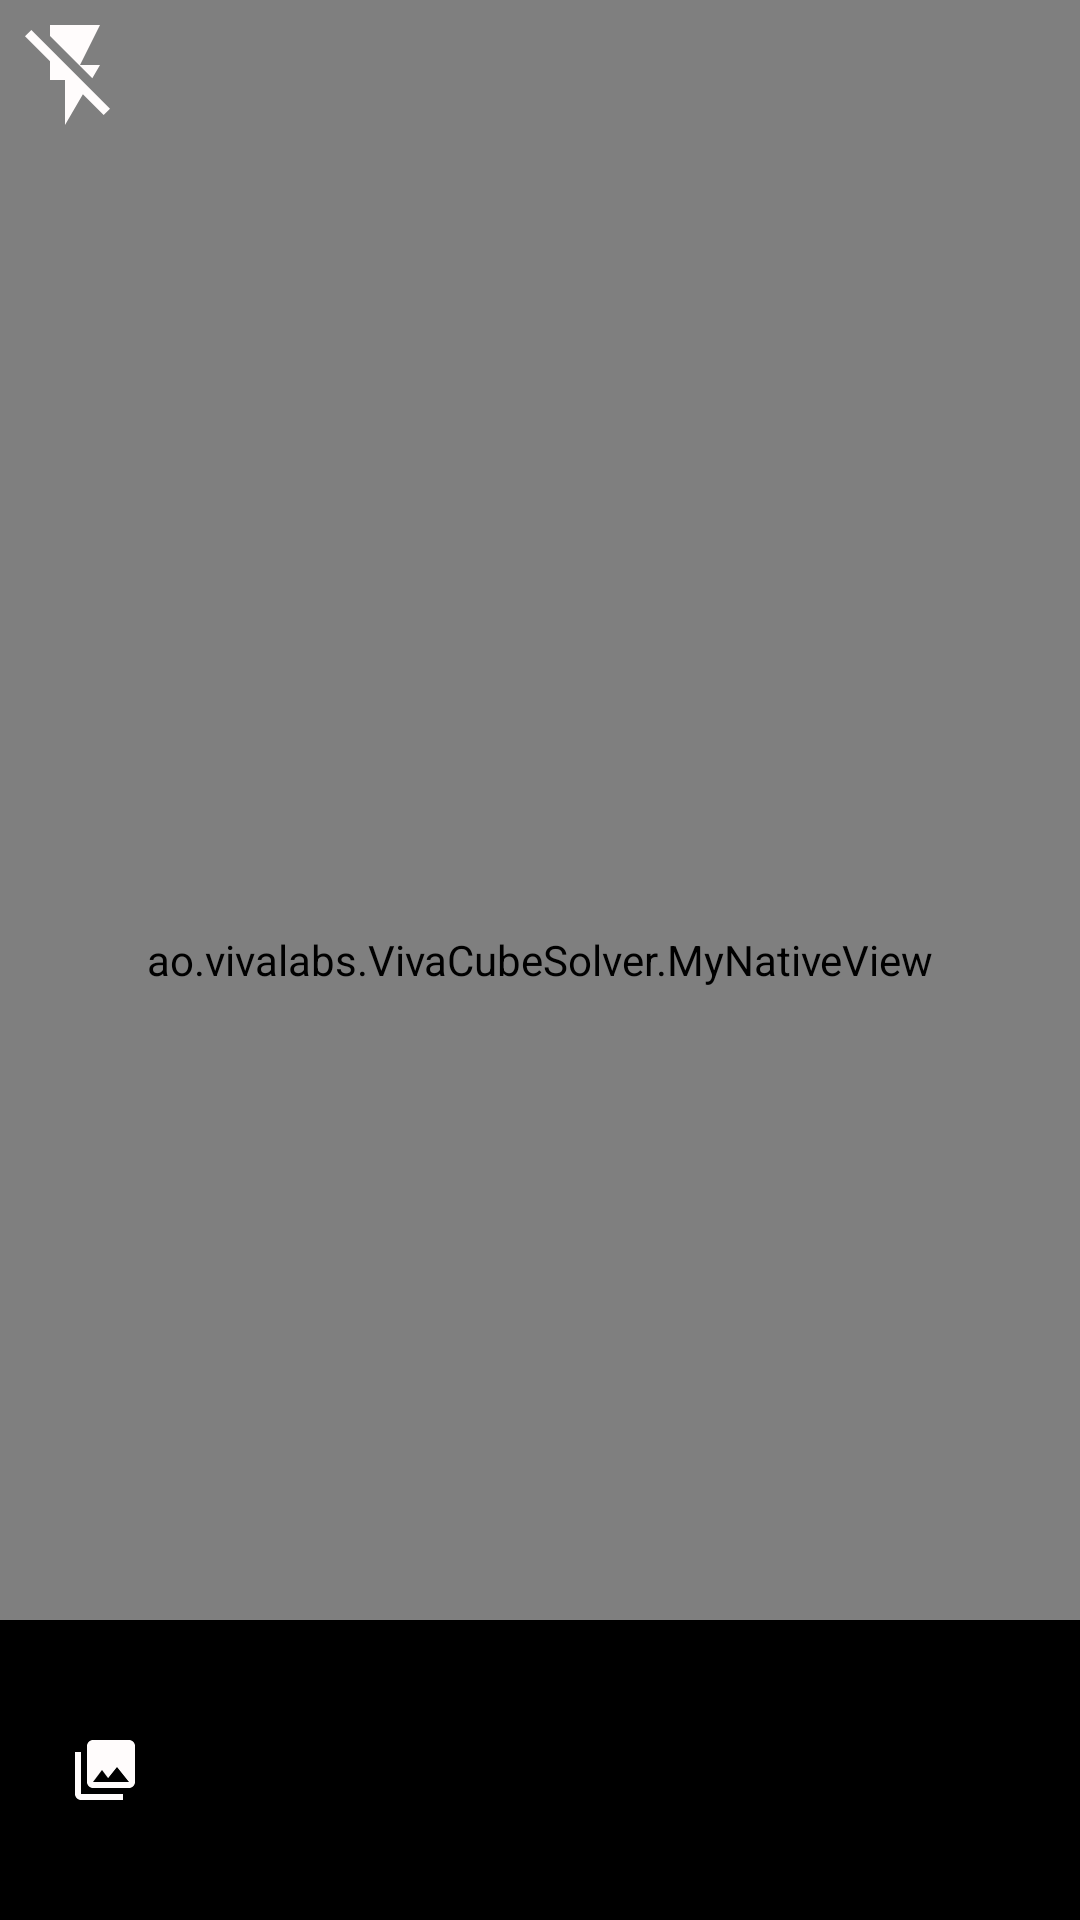

Point at icon controls on the screen. Image size 1080 x 1920, points as point (x, y).
flash off: point (67, 75)
